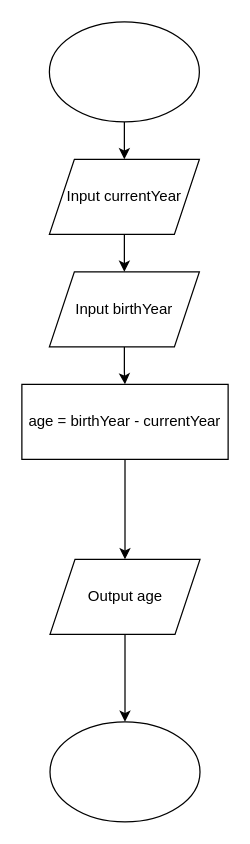
Some shapes in this 250 by 844 pixel diagram are drawn without their labels. Each missing label, with the centre of its shape:
"Begin" goes at [123,71].
"End" goes at [124,771].
